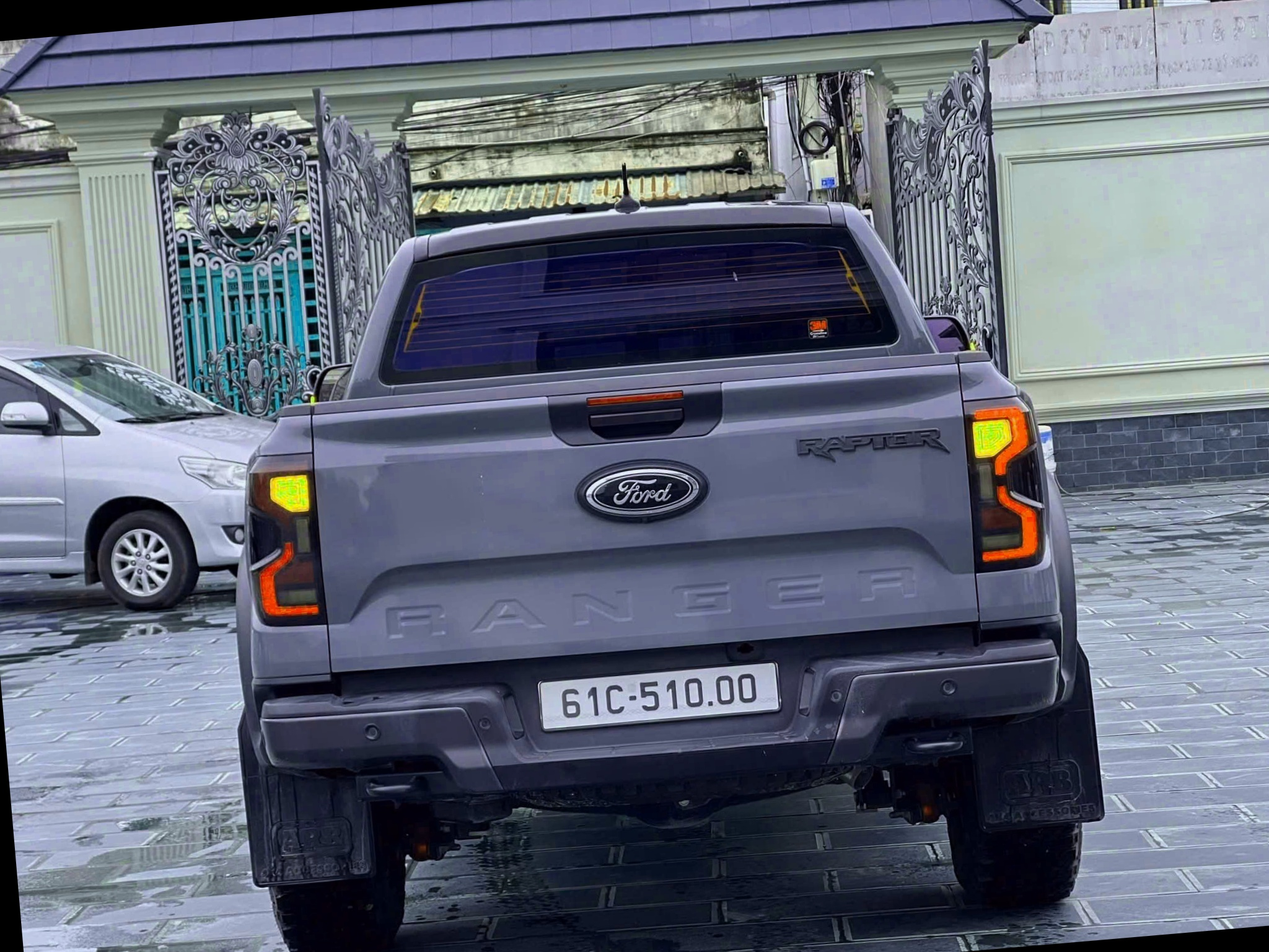Bien-so: (503, 651, 738, 703)
